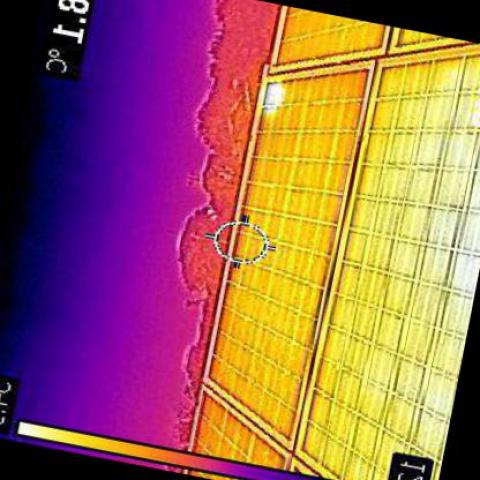fault: (263, 82, 289, 112)
